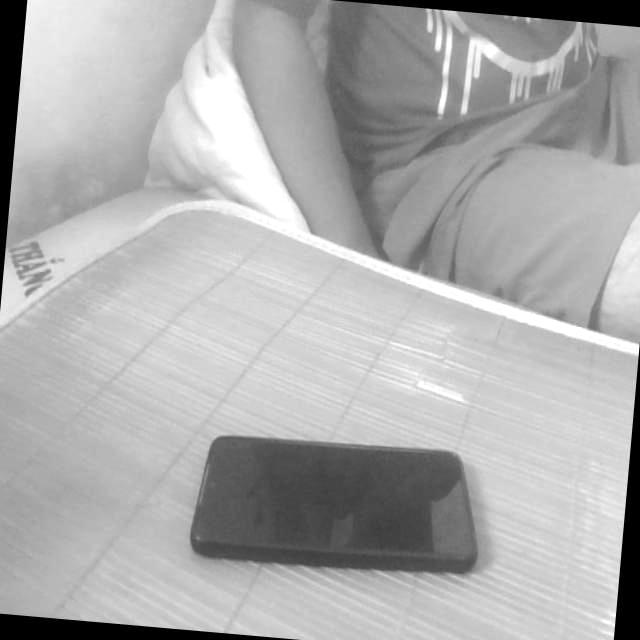phone: (183, 416, 494, 594)
